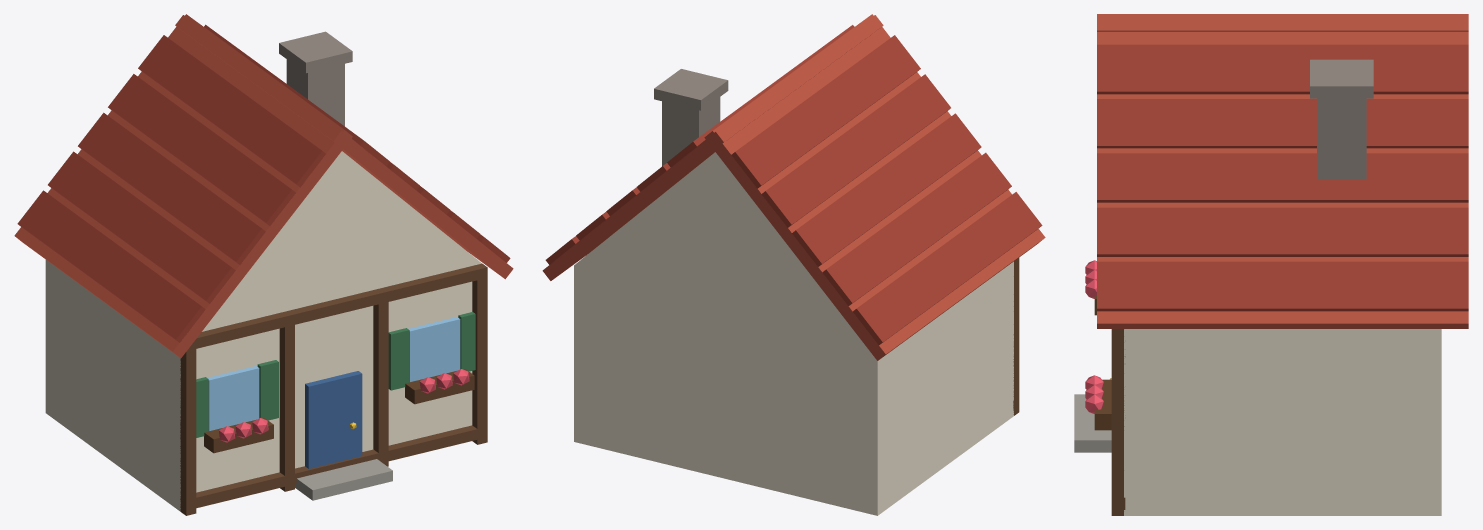
Rendered from Cottage.fbx.
3 renders of one model, left to right at view 1: azimuth 30°, elevation 25°; view 2: azimuth 150°, elevation 25°; view 3: azimuth 270°, elevation 25°, orthographic. The views are drawn at different scales.
Visible parts, largest first — view 1: Walls, Shingles, Roof, Beams, Windows, Door, Chimney, Shutters, Step, FlowerBox, Flowers; view 2: Walls, Shingles, Roof, Chimney, Beams; view 3: Shingles, Walls, Roof, Chimney, Beams, Step, Flowers, FlowerBox.
Part boxes in pixels (bbox=[...]): Walls: bbox=[45, 151, 481, 511]; Shingles: bbox=[17, 24, 510, 342]; Roof: bbox=[14, 14, 513, 357]; Beams: bbox=[180, 263, 487, 515]; Windows: bbox=[207, 317, 460, 431]; Door: bbox=[305, 371, 362, 468]; Chimney: bbox=[279, 31, 352, 126]; Shutters: bbox=[196, 312, 475, 437]; Step: bbox=[295, 459, 392, 500]; FlowerBox: bbox=[204, 369, 474, 453]; Flowers: bbox=[219, 369, 469, 442]; Walls: bbox=[574, 152, 1013, 515]; Shingles: bbox=[545, 25, 1042, 344]; Roof: bbox=[542, 14, 1045, 360]; Chimney: bbox=[654, 69, 728, 166]; Beams: bbox=[1013, 258, 1019, 415]; Shingles: bbox=[1097, 44, 1468, 311]; Walls: bbox=[1124, 329, 1441, 515]; Roof: bbox=[1097, 14, 1468, 328]; Chimney: bbox=[1310, 59, 1373, 178]; Beams: bbox=[1111, 329, 1125, 515]; Step: bbox=[1074, 394, 1111, 452]; Flowers: bbox=[1085, 260, 1103, 413]; FlowerBox: bbox=[1094, 295, 1111, 430].
Size of the model in its own units: 10.18 by 10.09 by 8.7.
